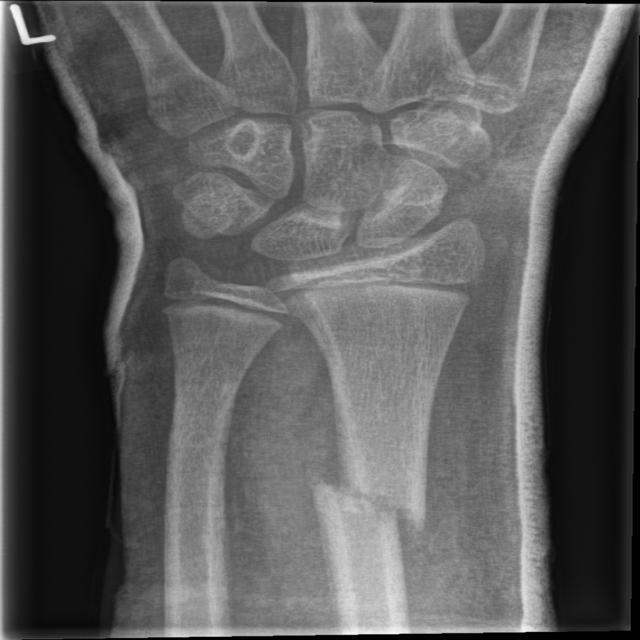radius fracture: (272, 388, 464, 626)
